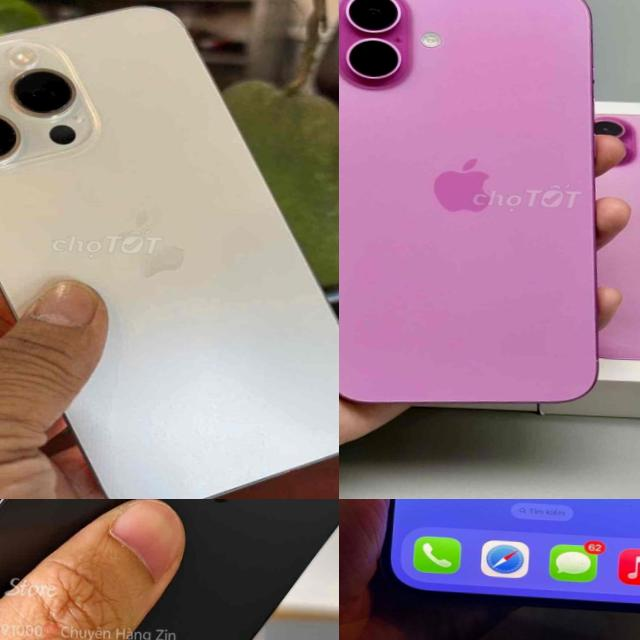gen_14: (373, 499, 640, 611)
gen_15: (0, 0, 339, 499)
gen_16: (339, 0, 621, 420), (0, 499, 339, 640)
